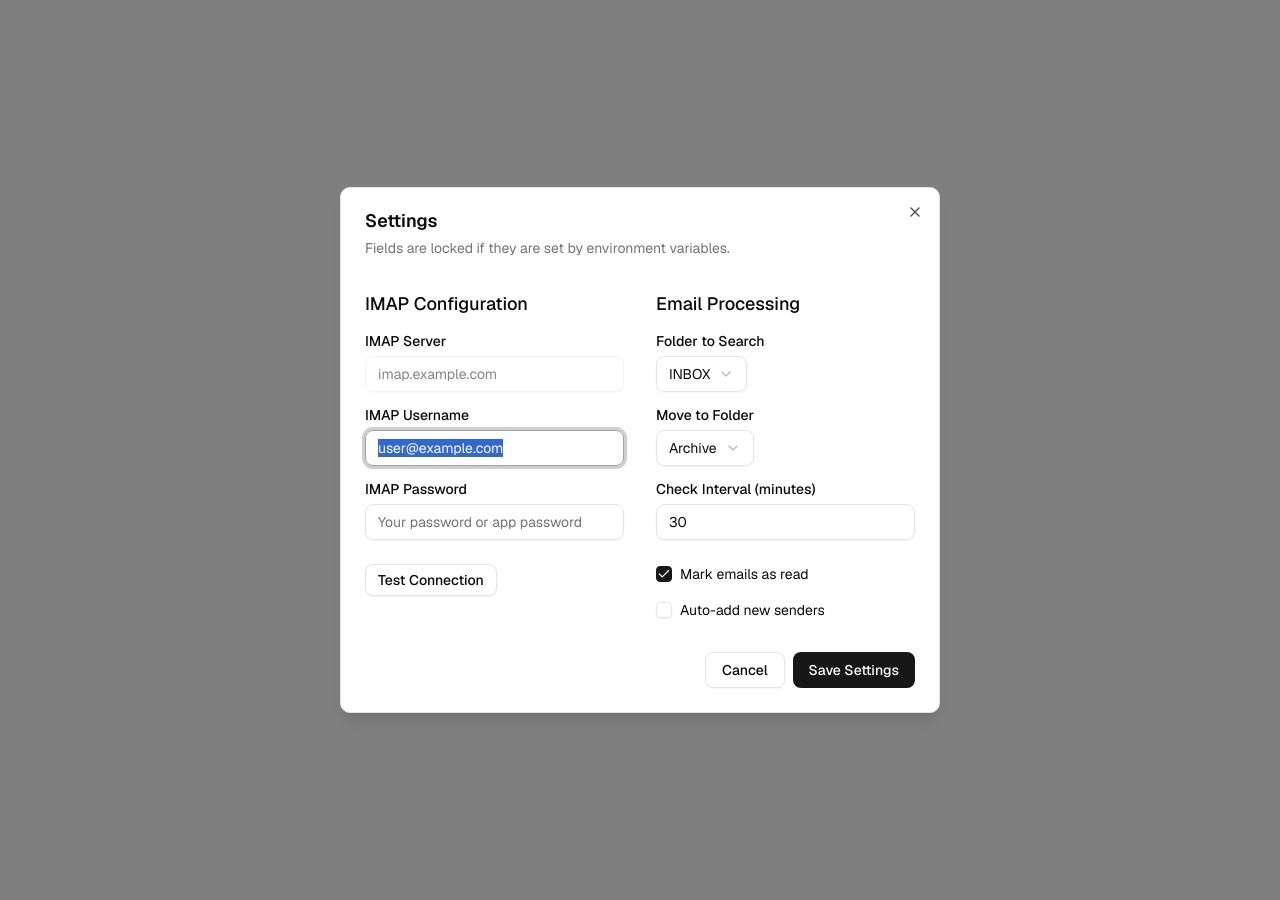
SettingsDialog › handles successful connection test
What coordinates should you click on to do the following:
click the button "Test Connection"
I would click on:
 (431, 580)
Its box is [365,564,497,596].
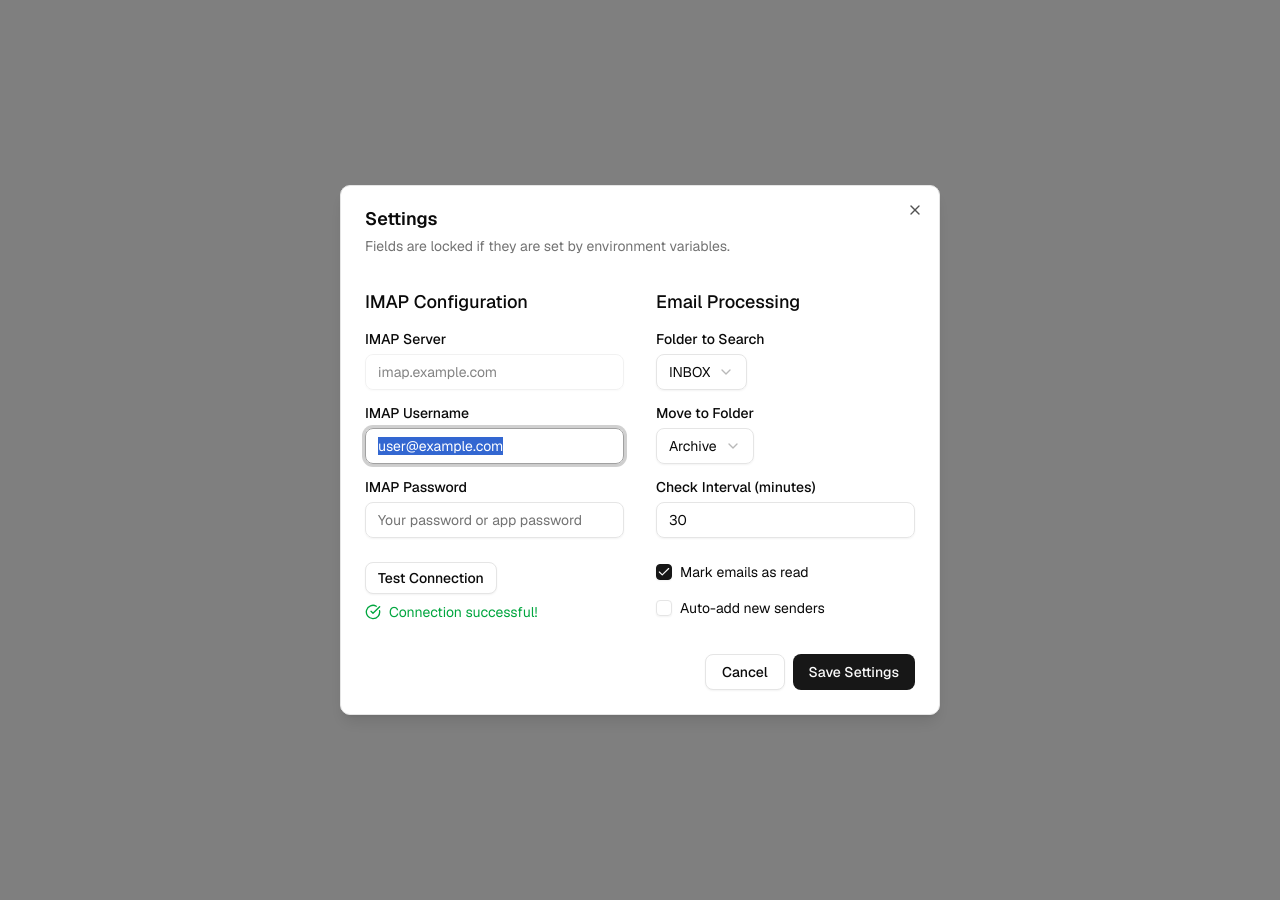
Result: the text "Connection successful!" is shown at [365,603,538,621]
